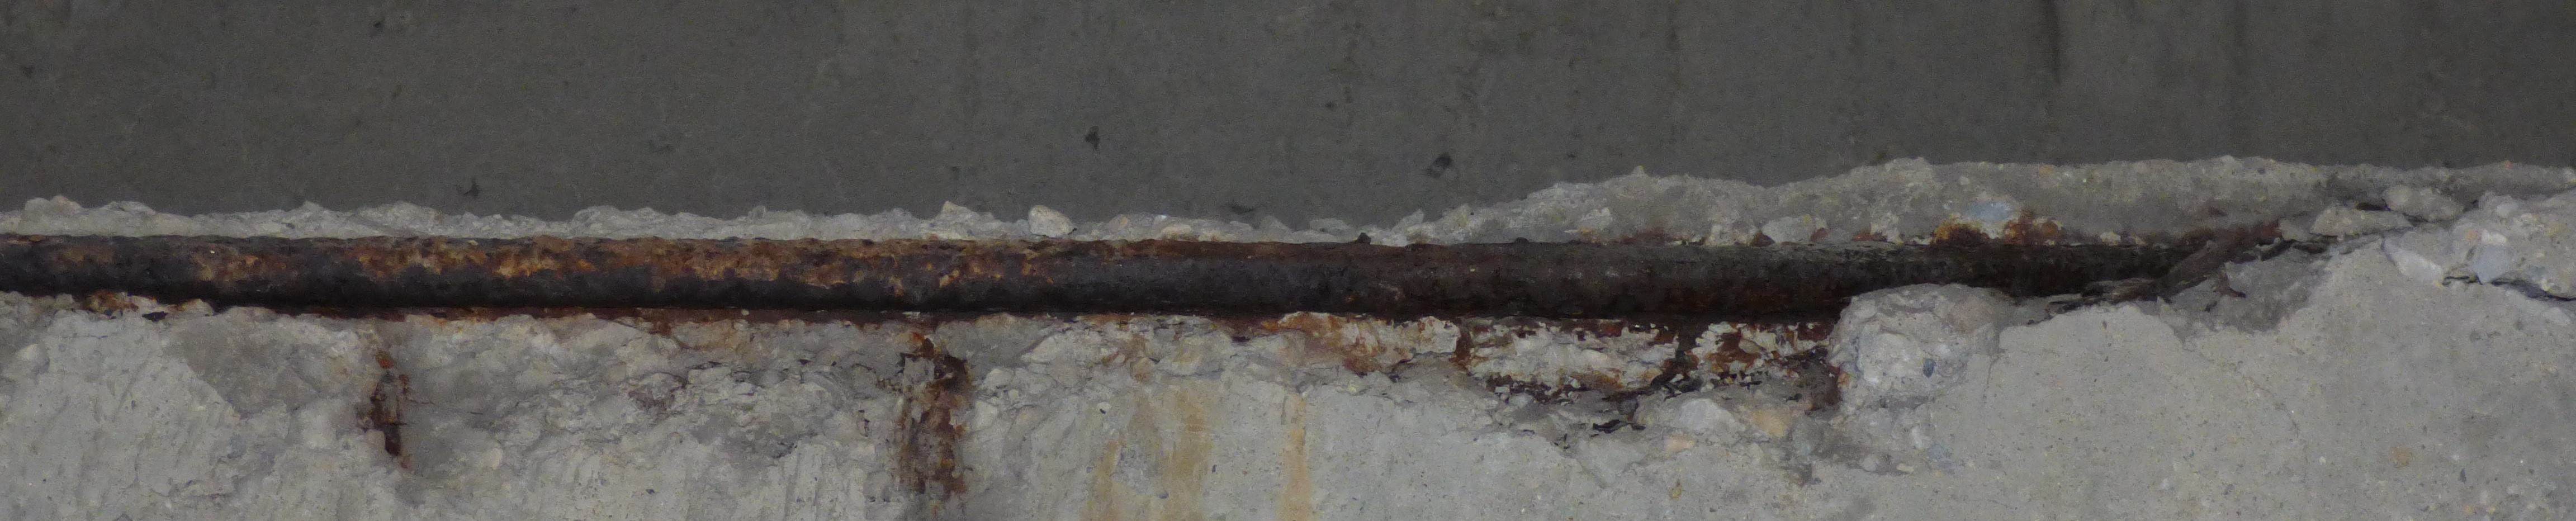Corrosion: (1283, 322, 1845, 436), (895, 330, 974, 501), (370, 348, 409, 457)
Exposed reinforcement: (0, 230, 2193, 322)
Spalling: (0, 154, 2576, 486)
